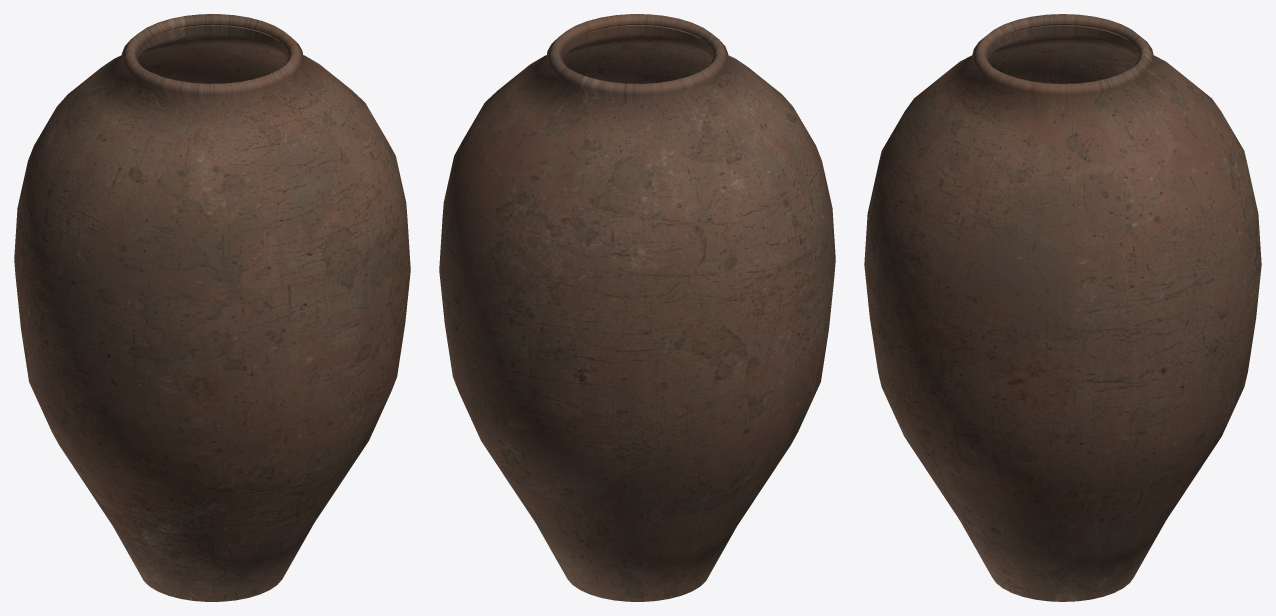
Rendered from pot.gltf.
3 views of the same model, side by side, from view 1: azimuth 30°, elevation 25°; view 2: azimuth 150°, elevation 25°; view 3: azimuth 270°, elevation 25° (orthographic).
Parts seen in each view (by area): view 1: Sphere; view 2: Sphere; view 3: Sphere.
Boxes of the visible parts, left/top/right/bottom form: Sphere: left=14, top=14, right=410, bottom=601; Sphere: left=439, top=14, right=835, bottom=601; Sphere: left=864, top=14, right=1261, bottom=601.
Size of the model in its own units: 0.6571 by 0.9533 by 0.6571.
1 material, 1 textured.
